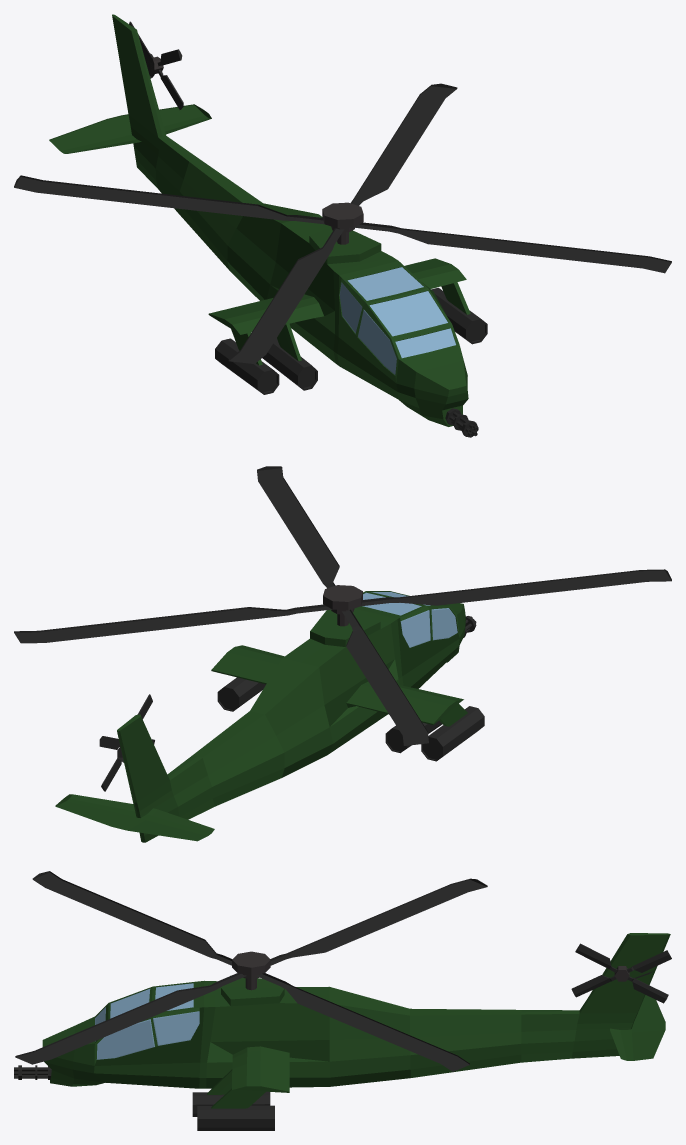
Rendered from ApacheLowPoly.fbx.
3 views of the same model, one above another, from view 1: azimuth 30°, elevation 25°; view 2: azimuth 150°, elevation 25°; view 3: azimuth 270°, elevation 25° (orthographic). The views are drawn at different scales.
Visible parts, largest first — view 1: Helicopter, Cube.009, Circle, Circle.003; view 2: Helicopter, Cube.009, Circle, Circle.003; view 3: Helicopter, Cube.009, Circle.003, Circle, Cylinder.002.
Boxes of the visible parts, x1,y1,x2,y2 form: Helicopter: (49,14,487,426); Cube.009: (14,83,671,363); Circle: (322,202,363,244); Circle.003: (129,21,183,109); Helicopter: (55,591,484,842); Cube.009: (14,466,671,745); Circle: (323,585,362,626); Circle.003: (99,694,154,791); Helicopter: (42,933,670,1130); Cube.009: (15,871,487,1071); Circle.003: (571,943,671,1003); Circle: (232,951,270,990); Cylinder.002: (14,1065,51,1079).
Size of the model in its own units: 219 by 77.55 by 305.
